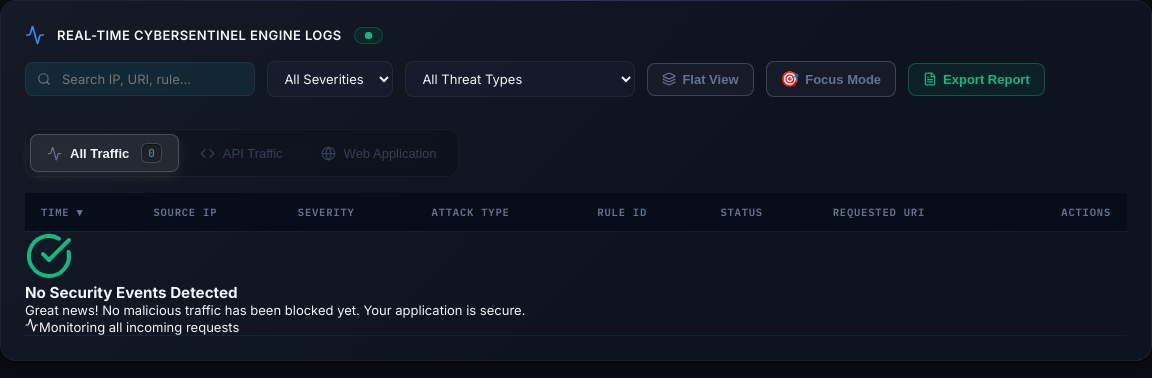
Test case: Events — flat timeline › exporting with no data shows an error toast instead of downloading
What coordinates should you click on to do the following:
click the button "Export Report"
I would click on:
 (976, 79)
Its box is [908,62,1045,96].
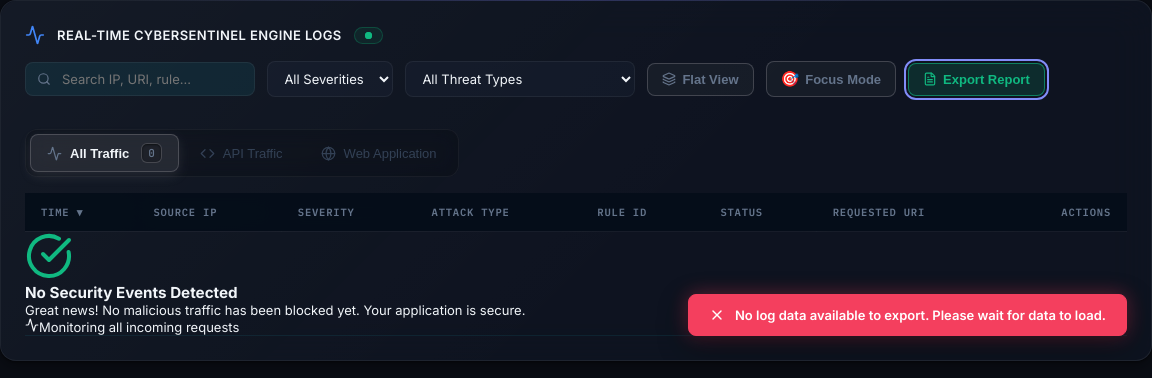
Expected: the text "No log data available to export" is shown, [735,307,1106,323]
